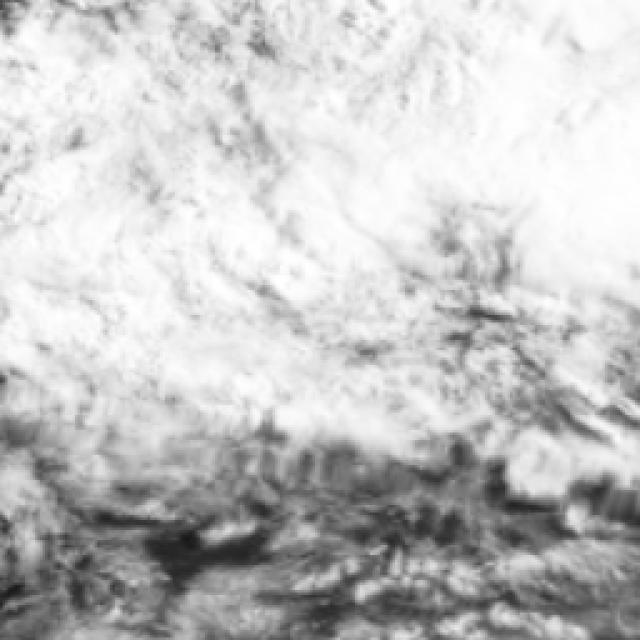CB: (381, 19, 622, 193)
